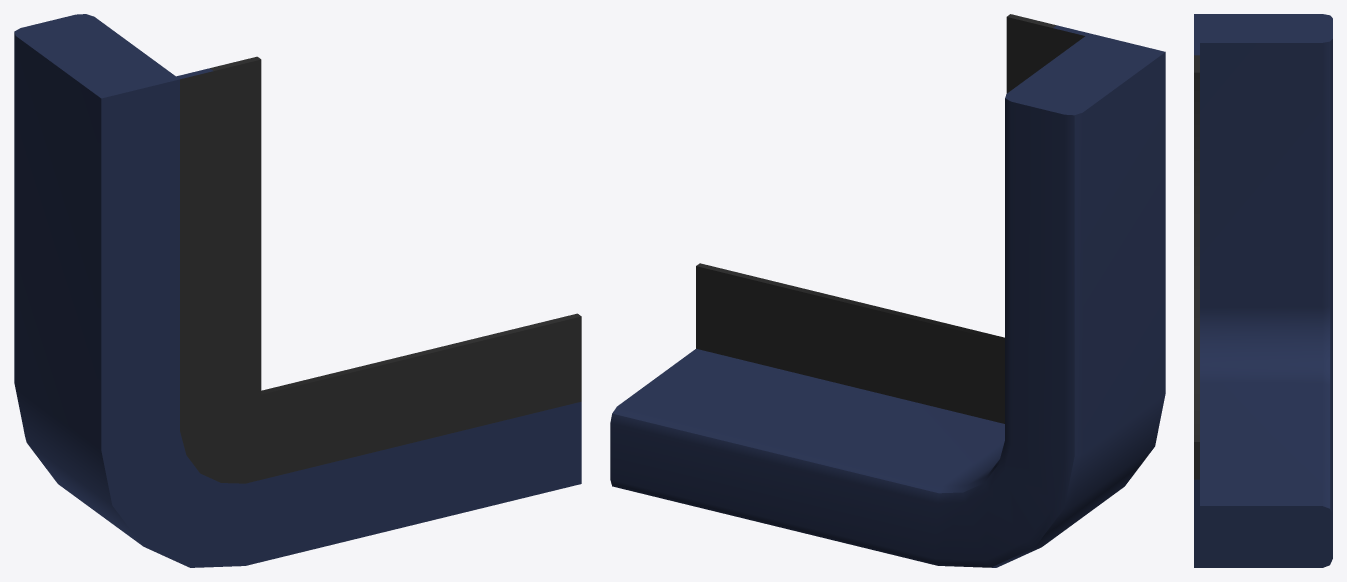
The model's file is grid_frame_corner_R.fbx.
3 views of the same model, side by side, from view 1: azimuth 30°, elevation 25°; view 2: azimuth 150°, elevation 25°; view 3: azimuth 270°, elevation 25° (orthographic). The views are drawn at different scales.
Parts seen in each view (by area): view 1: grid_frame_corner_R; view 2: grid_frame_corner_R; view 3: grid_frame_corner_R.
Boxes of the visible parts, x1,y1,x2,y2 form: grid_frame_corner_R: (14, 14, 581, 567); grid_frame_corner_R: (610, 14, 1165, 567); grid_frame_corner_R: (1194, 14, 1332, 567).
Bounding box in the file's own units: 150 × 150 × 50.
1 material, 1 textured.
